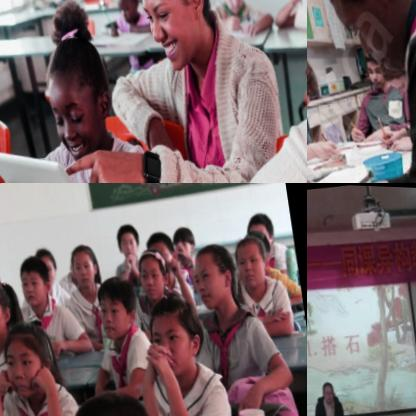head: (31, 18, 125, 165), (310, 0, 416, 95), (127, 0, 225, 76), (143, 295, 208, 376), (0, 317, 59, 397), (187, 237, 236, 306), (93, 272, 137, 336), (355, 38, 388, 97), (17, 257, 52, 309), (135, 246, 170, 297), (234, 232, 266, 285), (144, 225, 179, 272), (69, 244, 98, 286), (0, 273, 18, 338), (31, 244, 58, 287), (247, 207, 275, 245), (245, 225, 273, 263), (307, 42, 321, 117), (170, 223, 196, 261), (115, 221, 141, 256), (107, 0, 143, 23), (215, 0, 250, 17), (318, 377, 335, 401)
